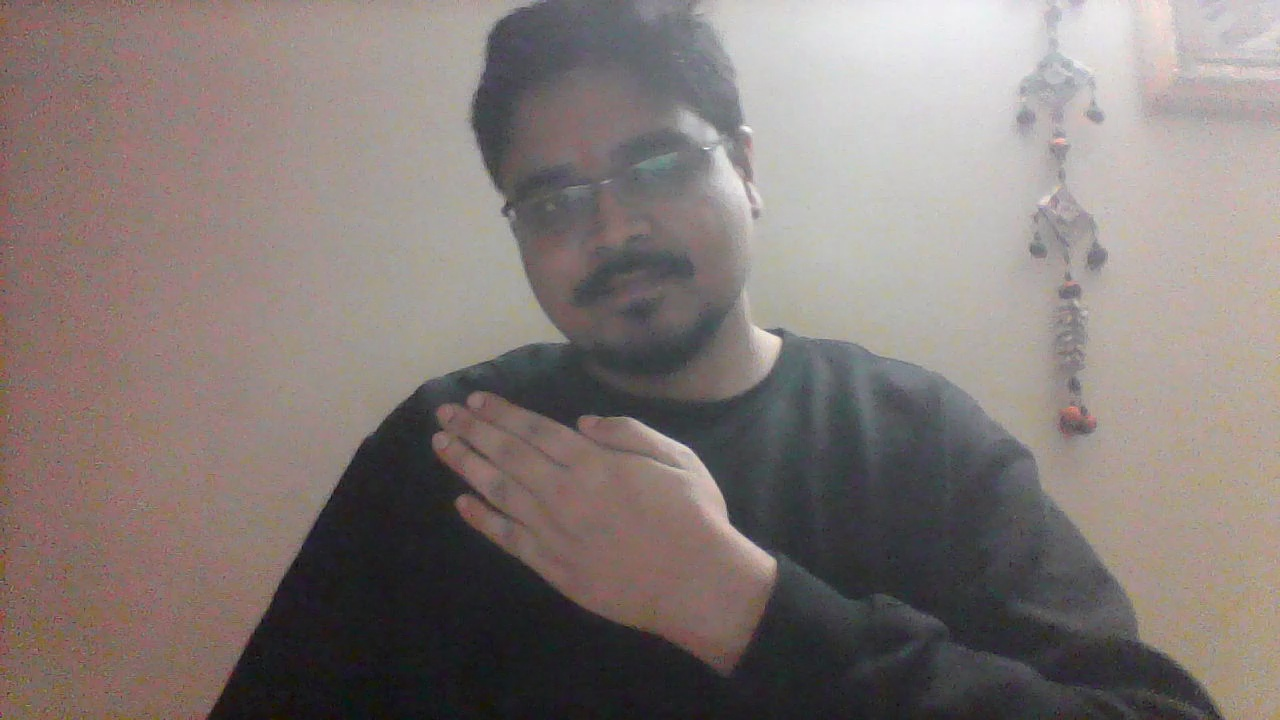Please: (420, 386, 747, 636)
